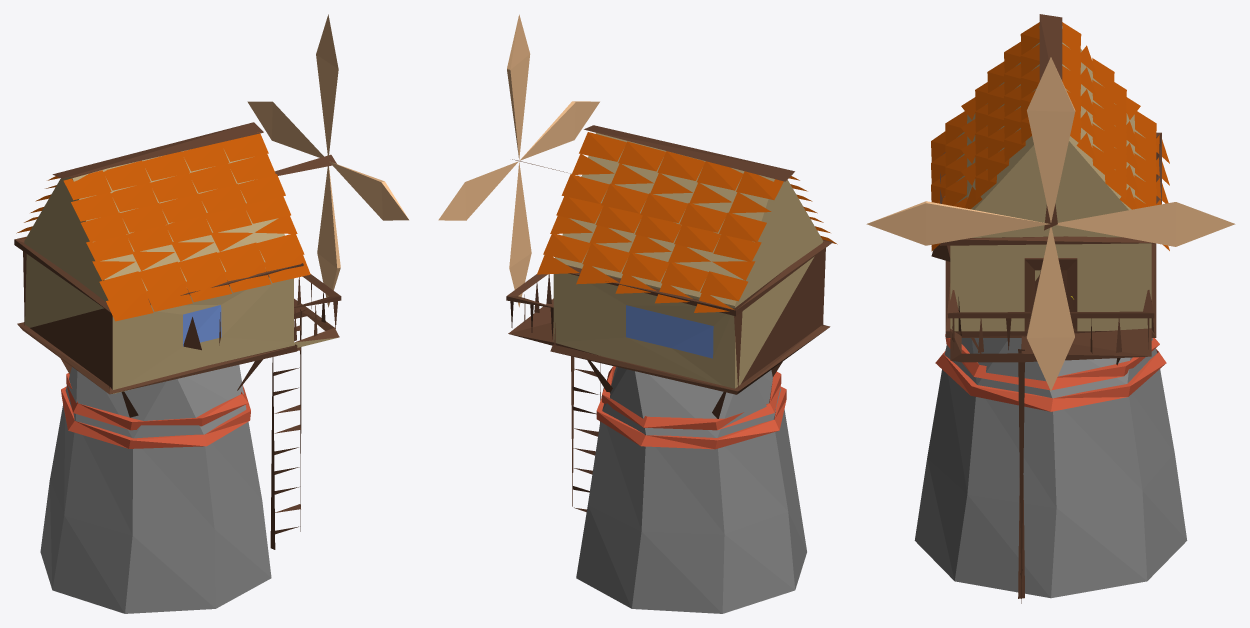
File: LOD2_WindMill.fbx
3 renders of one model, left to right at view 1: azimuth 30°, elevation 25°; view 2: azimuth 150°, elevation 25°; view 3: azimuth 270°, elevation 25°, orthographic. The views are drawn at different scales.
Visible parts, largest first — view 1: Windmill_Cube.004; view 2: Windmill_Cube.004; view 3: Windmill_Cube.004.
Part boxes in pixels (<box>): Windmill_Cube.004: <box>14,14,408,613</box>; Windmill_Cube.004: <box>438,14,837,613</box>; Windmill_Cube.004: <box>866,14,1235,603</box>.
Bounding box in the file's own units: 1361 × 2347 × 1356.
